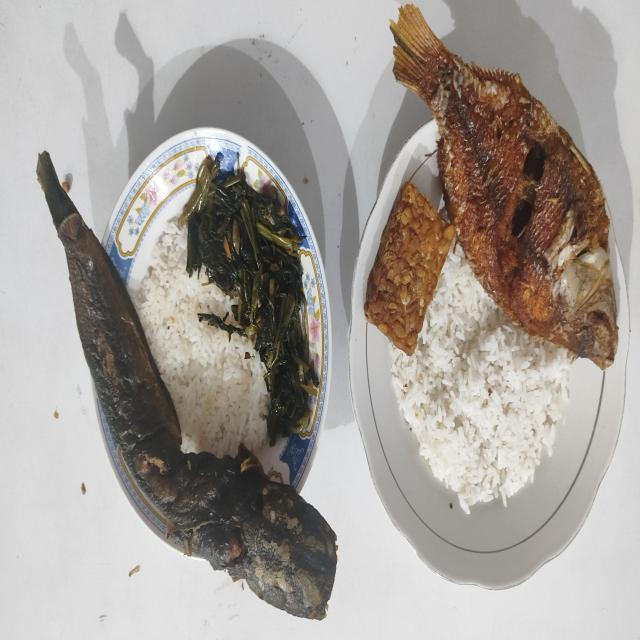ikan_mujair: (391, 6, 618, 370)
nasi_putih: (390, 242, 574, 514), (128, 219, 270, 457)
tempe_goreng: (364, 182, 455, 356)
tumis_kangkung: (179, 152, 318, 446)
